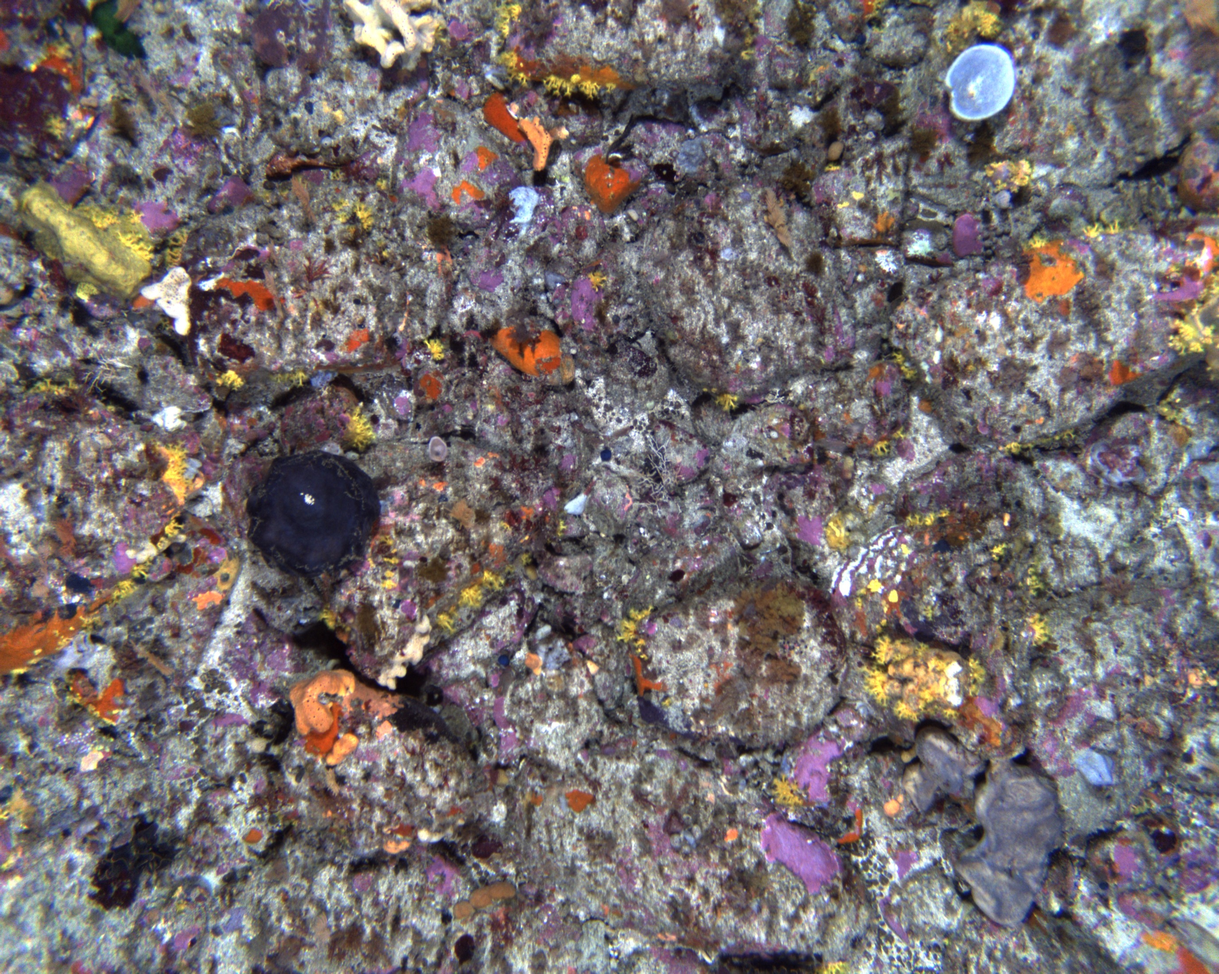Brachionichthyidae: (263, 151, 345, 180)
